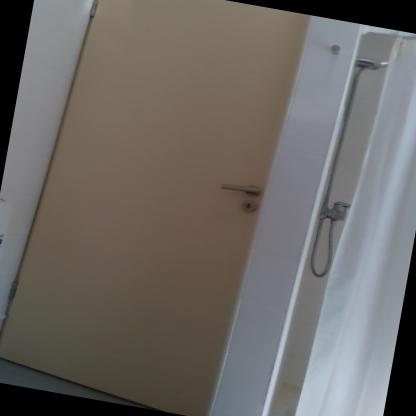closed: (4, 0, 305, 413)
